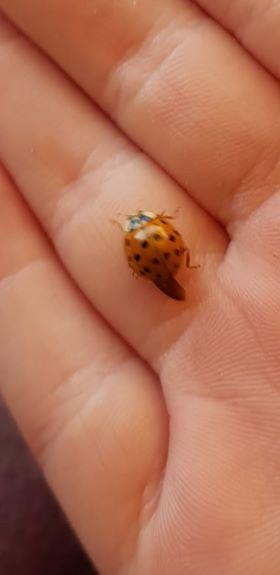ladybug: (109, 206, 204, 304)
